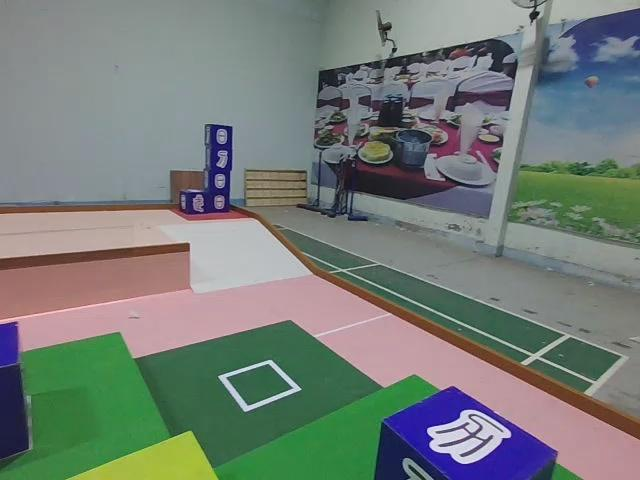R2 Fake Blue: (367, 378, 563, 480), (0, 323, 32, 480)
